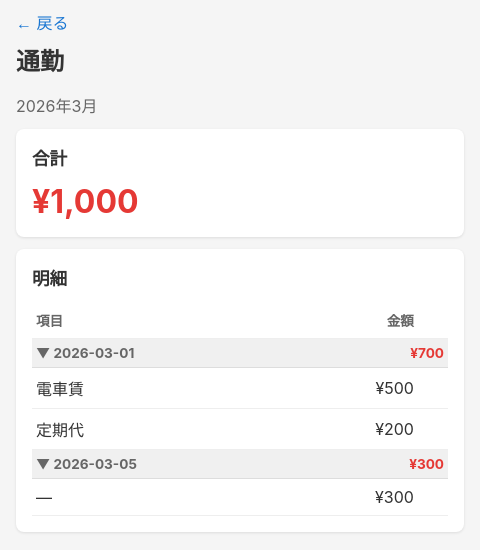
TagDetails › 閉じた日付ヘッダーを再度クリックすると明細行が再表示される
Check: the text "電車賃" is shown, box [32,368,242,408]
Step 1. Click the text "▼ 2026-03-01 ¥700" → (240, 353), box [32,338,448,368]
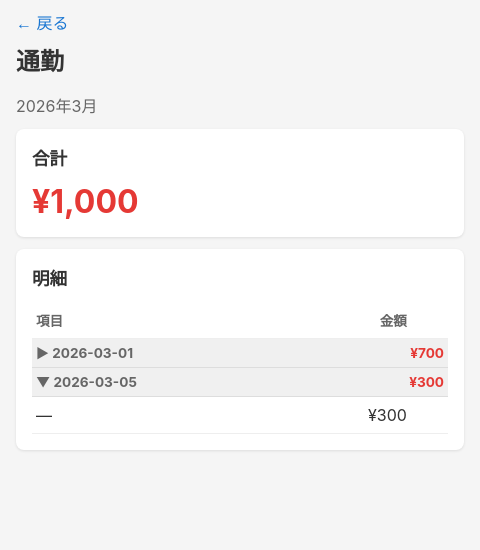
Check: the text "電車賃" is gone
Step 2. Click the text "▶ 2026-03-01 ¥700" → (240, 353), box [32,338,448,368]
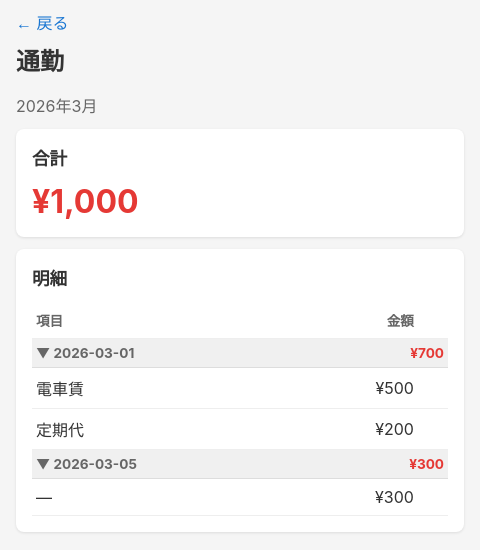
Check: the text "電車賃" is shown, box [32,368,242,408]
Check: the text "定期代" is shown, box [32,408,242,450]
